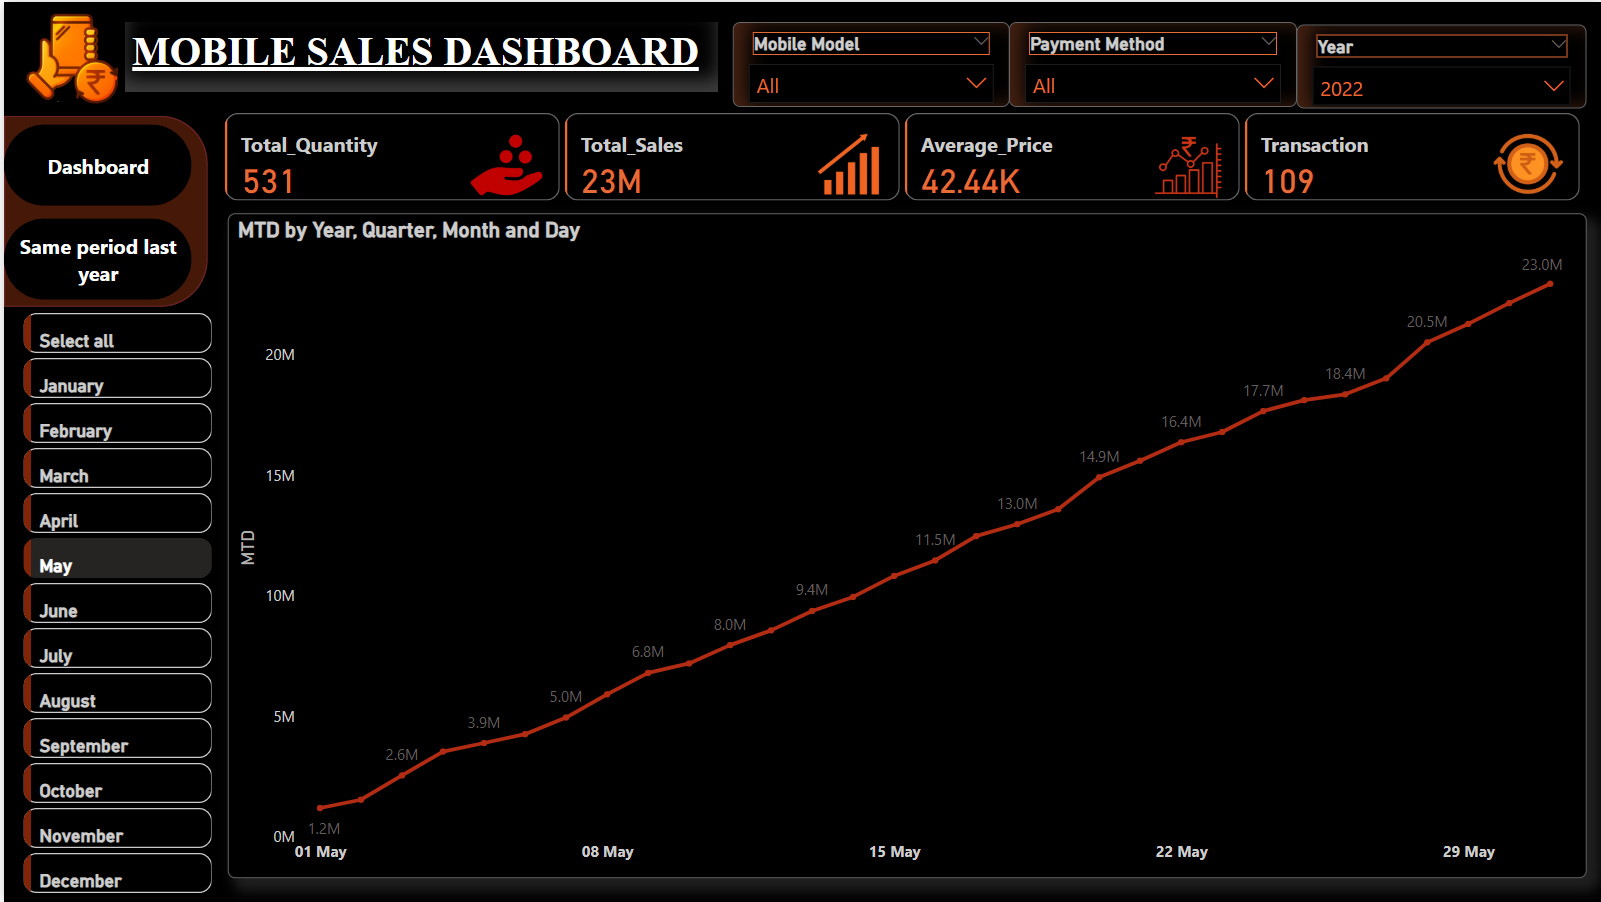

What the dashboard file says about the page in this screenshot:
{"tool":"powerbi","page":{"name":"MTD","canvas":[1280,720],"ordinal":1},"visuals":[{"type":"cardVisual","fields":{"Data":["Sales_data.Total_Quantity","Sales_data.Total_Sales","Sales_data.Average_Price","Sales_data.Transaction"]},"box":[171.2,83.8,1095,80],"z":0},{"type":"slicer","fields":{"Values":["Sales_data.Mobile Model"]},"box":[582.5,16.2,221.2,67.5],"z":1000},{"type":"slicer","fields":{"Values":["Sales_data.Payment Method"]},"box":[803.8,16.2,230,67.5],"z":2000},{"type":"slicer","fields":{"Values":["Custom_calender.Date.Variation.Date Hierarchy.Year"]},"box":[1033.8,17.5,232.5,67.5],"z":3000},{"type":"textbox","box":[96.5,16.3,474.4,55.8],"z":5000},{"type":"image","box":[0,0,109.3,103.5],"z":6000},{"type":"lineChart","fields":{"Y":["Sales_data.MTD"],"Category":["Custom_calender.Date.Variation.Date Hierarchy.Year","Custom_calender.Date.Variation.Date Hierarchy.Quarter","Custom_calender.Date.Variation.Date Hierarchy.Month","Custom_calender.Date.Variation.Date Hierarchy.Day"]},"box":[178.8,168.8,1087.5,532.5],"z":7000},{"type":"advancedSlicerVisual","fields":{"Values":["Custom_calender.Date.Variation.Date Hierarchy.Month"]},"box":[10,243.8,161.2,476.2],"z":8000},{"type":"shape","box":[0,91.2,162.5,152.5],"z":12000},{"type":"pageNavigator","box":[0,97.5,150,140],"z":15000}]}

Visuals, with their boxes in screenshot pixels (x1, y1, x2, y2), scaled from the page's 1280x720 canvas onto the 1601x902 screenshot:
cardVisual - Sales_data.Total_Quantity x Sales_data.Total_Sales: detection(214, 105, 1584, 205)
slicer - Sales_data.Mobile Model: detection(729, 20, 1005, 105)
slicer - Sales_data.Payment Method: detection(1005, 20, 1293, 105)
slicer - Custom_calender.Date.Variation.Date Hierarchy.Year: detection(1293, 22, 1584, 106)
textbox: detection(121, 20, 714, 90)
image: detection(0, 0, 137, 130)
lineChart - Sales_data.MTD x Custom_calender.Date.Variation.Date Hierarchy.Year: detection(224, 211, 1584, 879)
advancedSlicerVisual - Custom_calender.Date.Variation.Date Hierarchy.Month: detection(13, 305, 214, 901)
shape: detection(0, 114, 203, 305)
pageNavigator: detection(0, 122, 188, 298)
